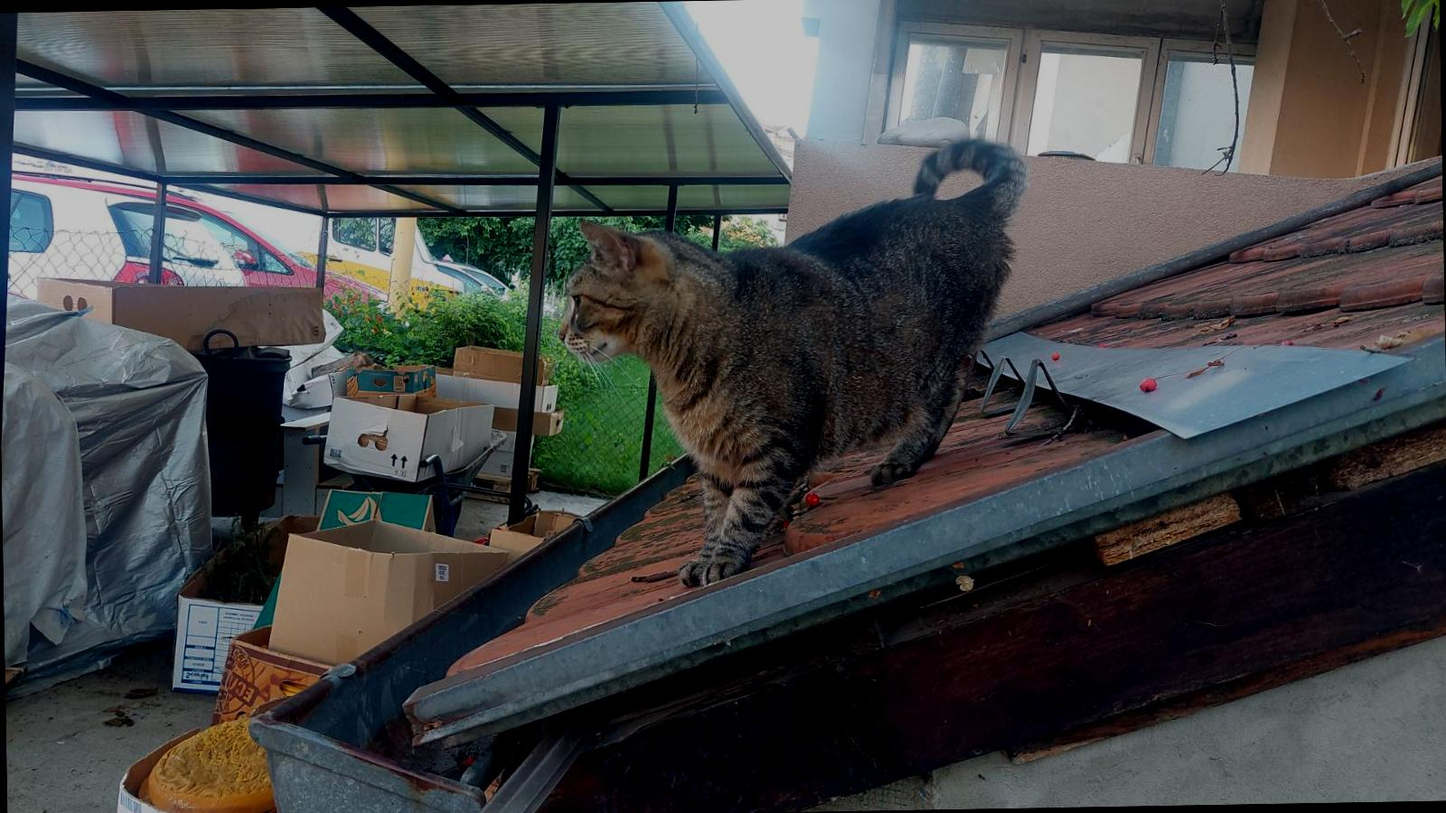macka: (552, 133, 1030, 593)
